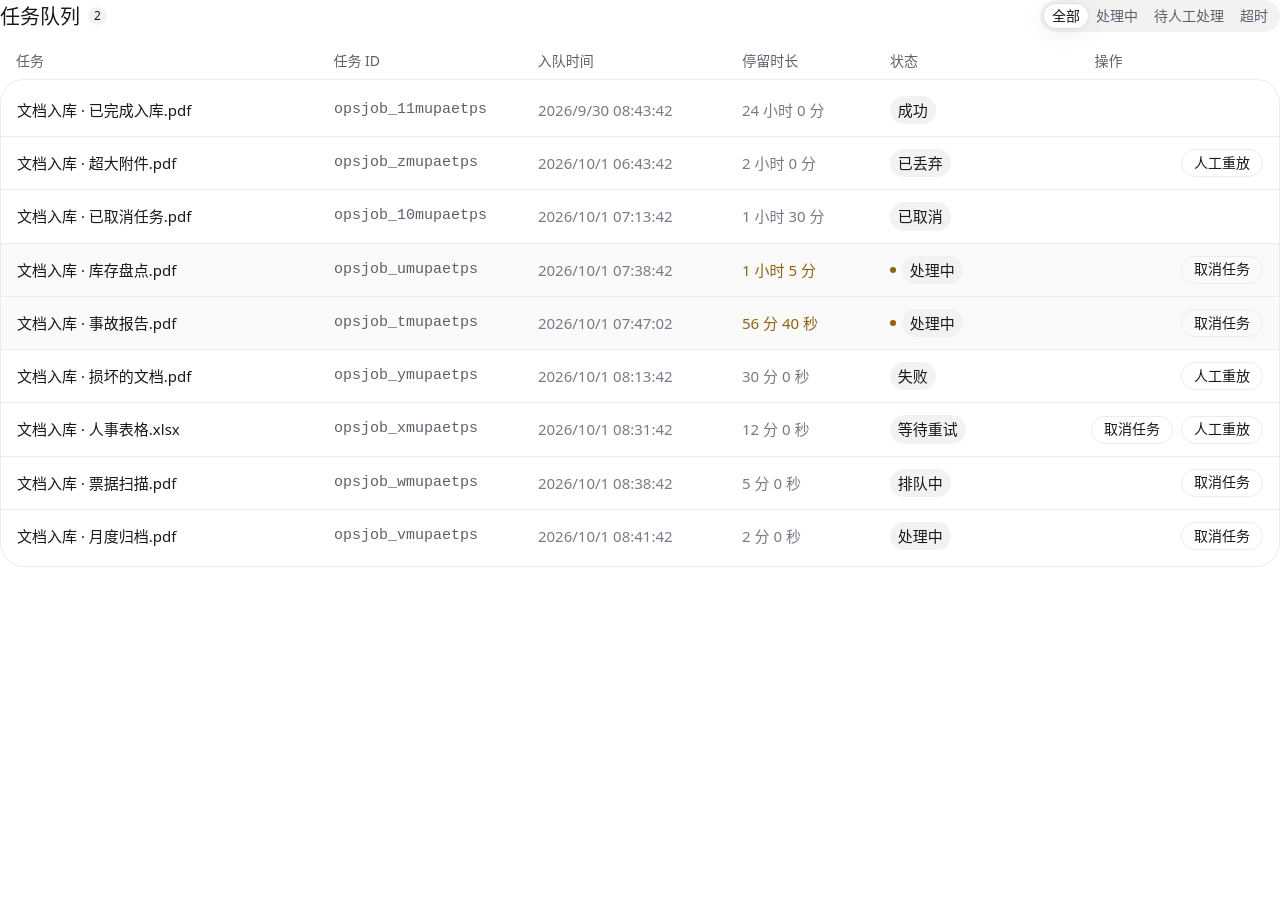
Test: 任务队列：行操作（§10.2 / §6.7，A42） › cancel 竞态 409：提示已刷新并重新拉取列表
This screenshot has width=1280, height=900.
Click the button "取消任务" in the row of "月度归档.pdf" at (1222, 536), box [1181,522,1263,550]
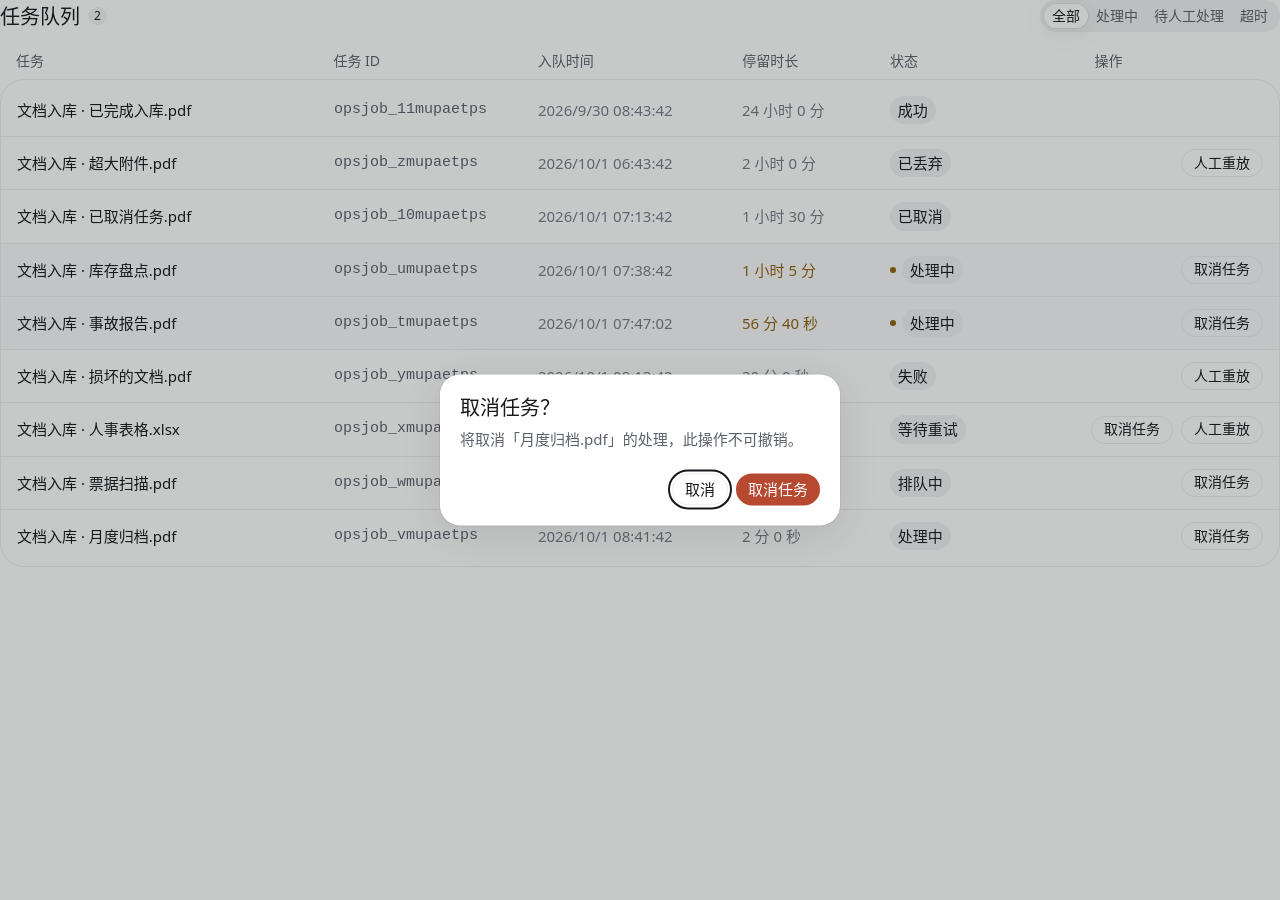
Click the button "取消任务" at (778, 490), box [736,474,820,506]
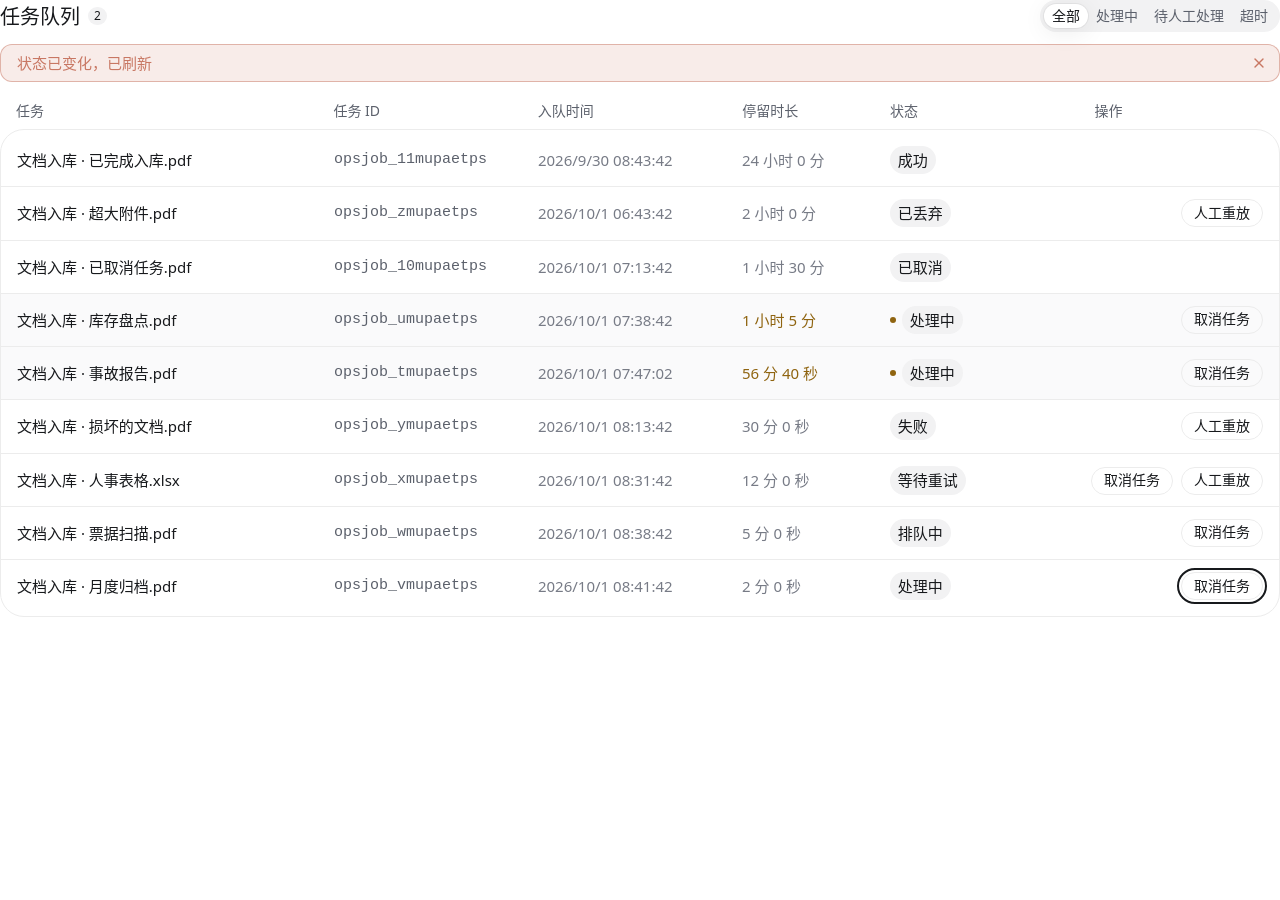
Expected: the text "状态已变化，已刷新" is shown, [0,44,1279,82]
